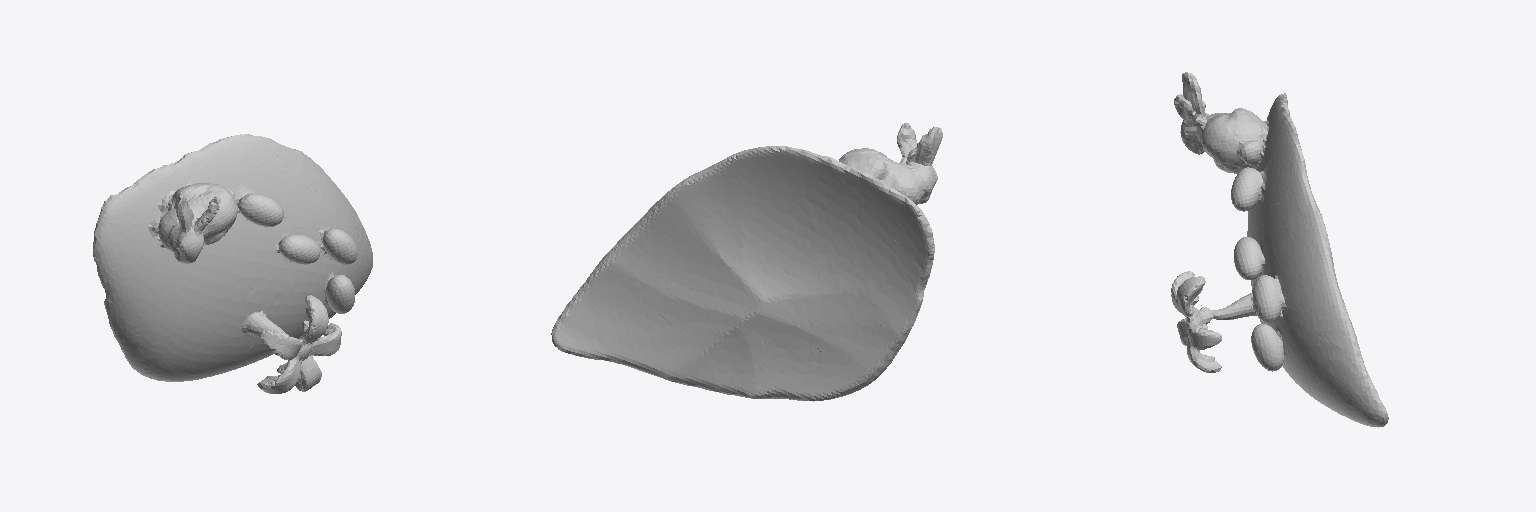
File: easter 2.obj
3 views of the same model, side by side, from view 1: azimuth 30°, elevation 25°; view 2: azimuth 150°, elevation 25°; view 3: azimuth 270°, elevation 25° (orthographic).
Visible parts, largest first — view 1: Layer_1; view 2: Layer_1; view 3: Layer_1.
Boxes of the visible parts, <box> form: Layer_1: <box>93,134,372,393</box>; Layer_1: <box>551,123,942,401</box>; Layer_1: <box>1171,72,1388,427</box>.
Size of the model in its own units: 0.9439 by 0.6827 by 0.5391.